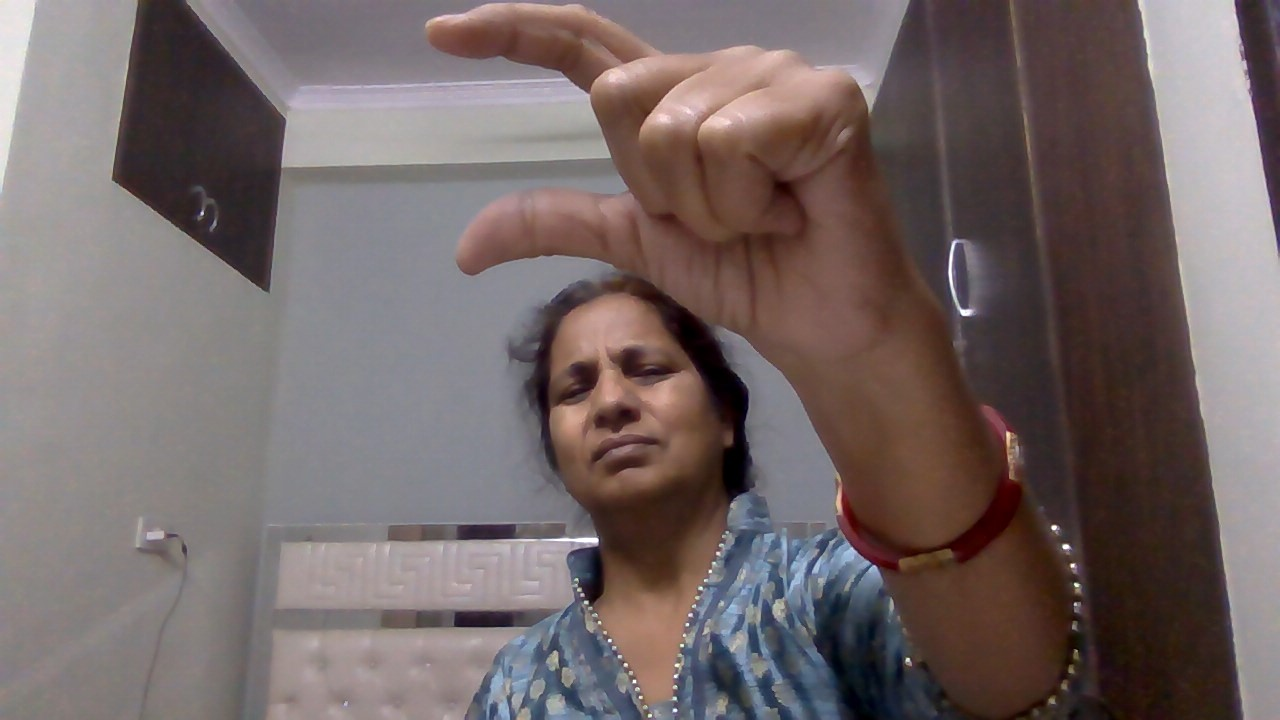Paste: (399, 7, 933, 362)
